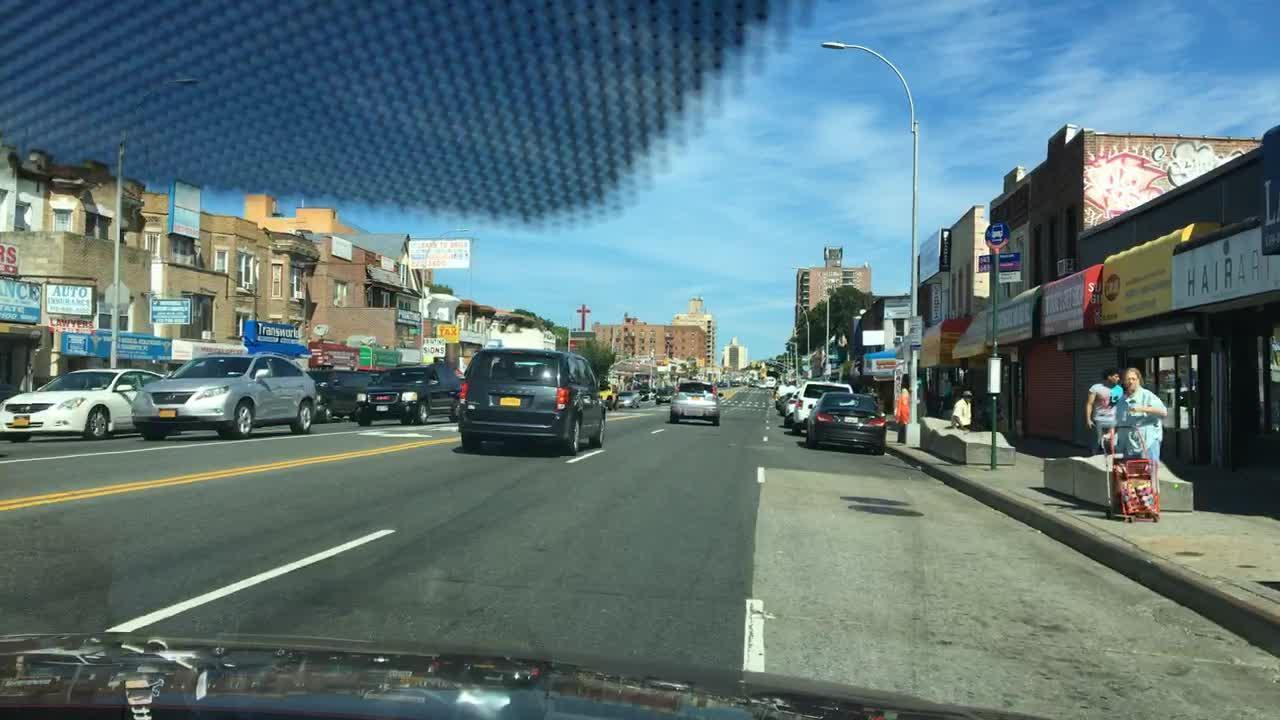GMC: (373, 394, 396, 402)
